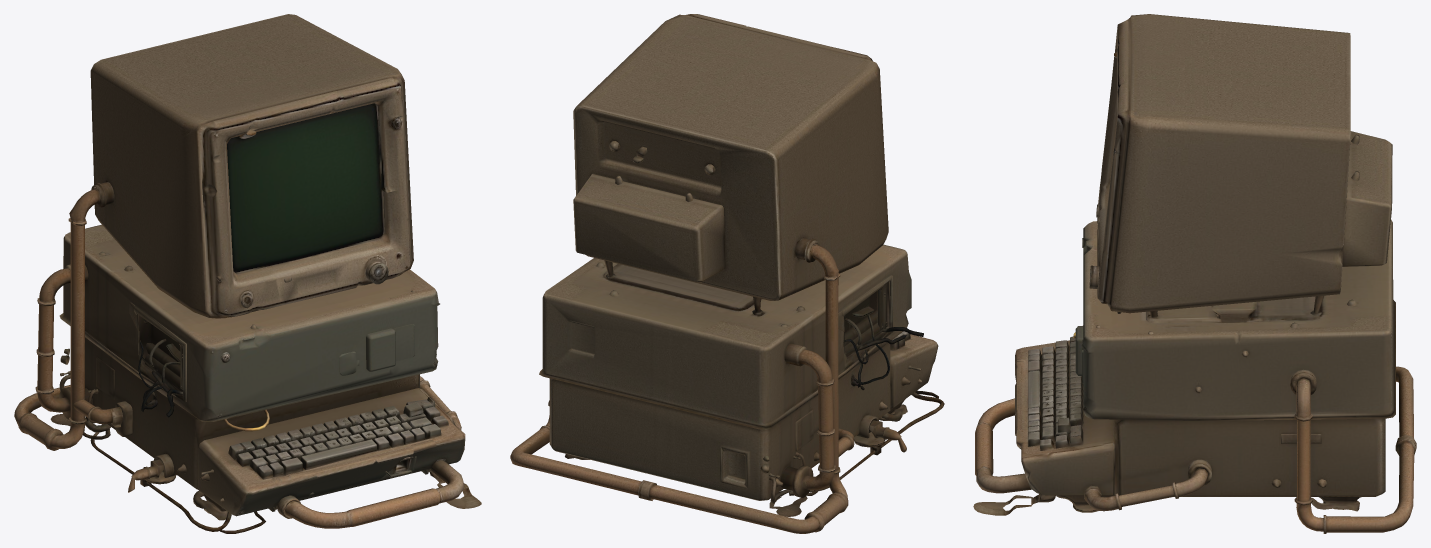
File: tripo_convert_b3e98f7f-b77d-408f-8e66-ccace7c8b337.fbx
The picture shows the model from 3 angles, left to right: view 1: azimuth 30°, elevation 25°; view 2: azimuth 150°, elevation 25°; view 3: azimuth 270°, elevation 25°; orthographic projection. The views are drawn at different scales.
Parts seen in each view (by area): view 1: tripo_node_b3e98f7f; view 2: tripo_node_b3e98f7f; view 3: tripo_node_b3e98f7f.
Part boxes in pixels (left/top/right/bottom): tripo_node_b3e98f7f: left=14, top=14, right=481, bottom=533; tripo_node_b3e98f7f: left=510, top=14, right=944, bottom=533; tripo_node_b3e98f7f: left=973, top=14, right=1416, bottom=533.
Size of the model in its own units: 0.8511 by 0.9907 by 0.9995.
Materials: 1 (1 with a texture image).
